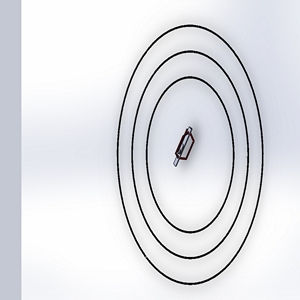circle: (102, 20, 269, 288)
submarine: (165, 122, 207, 183)
